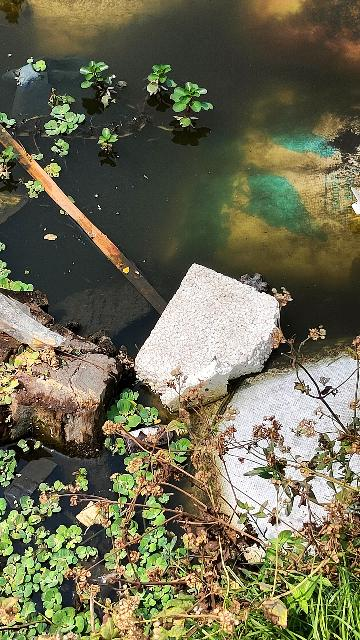cocksheet: (129, 260, 287, 414)
